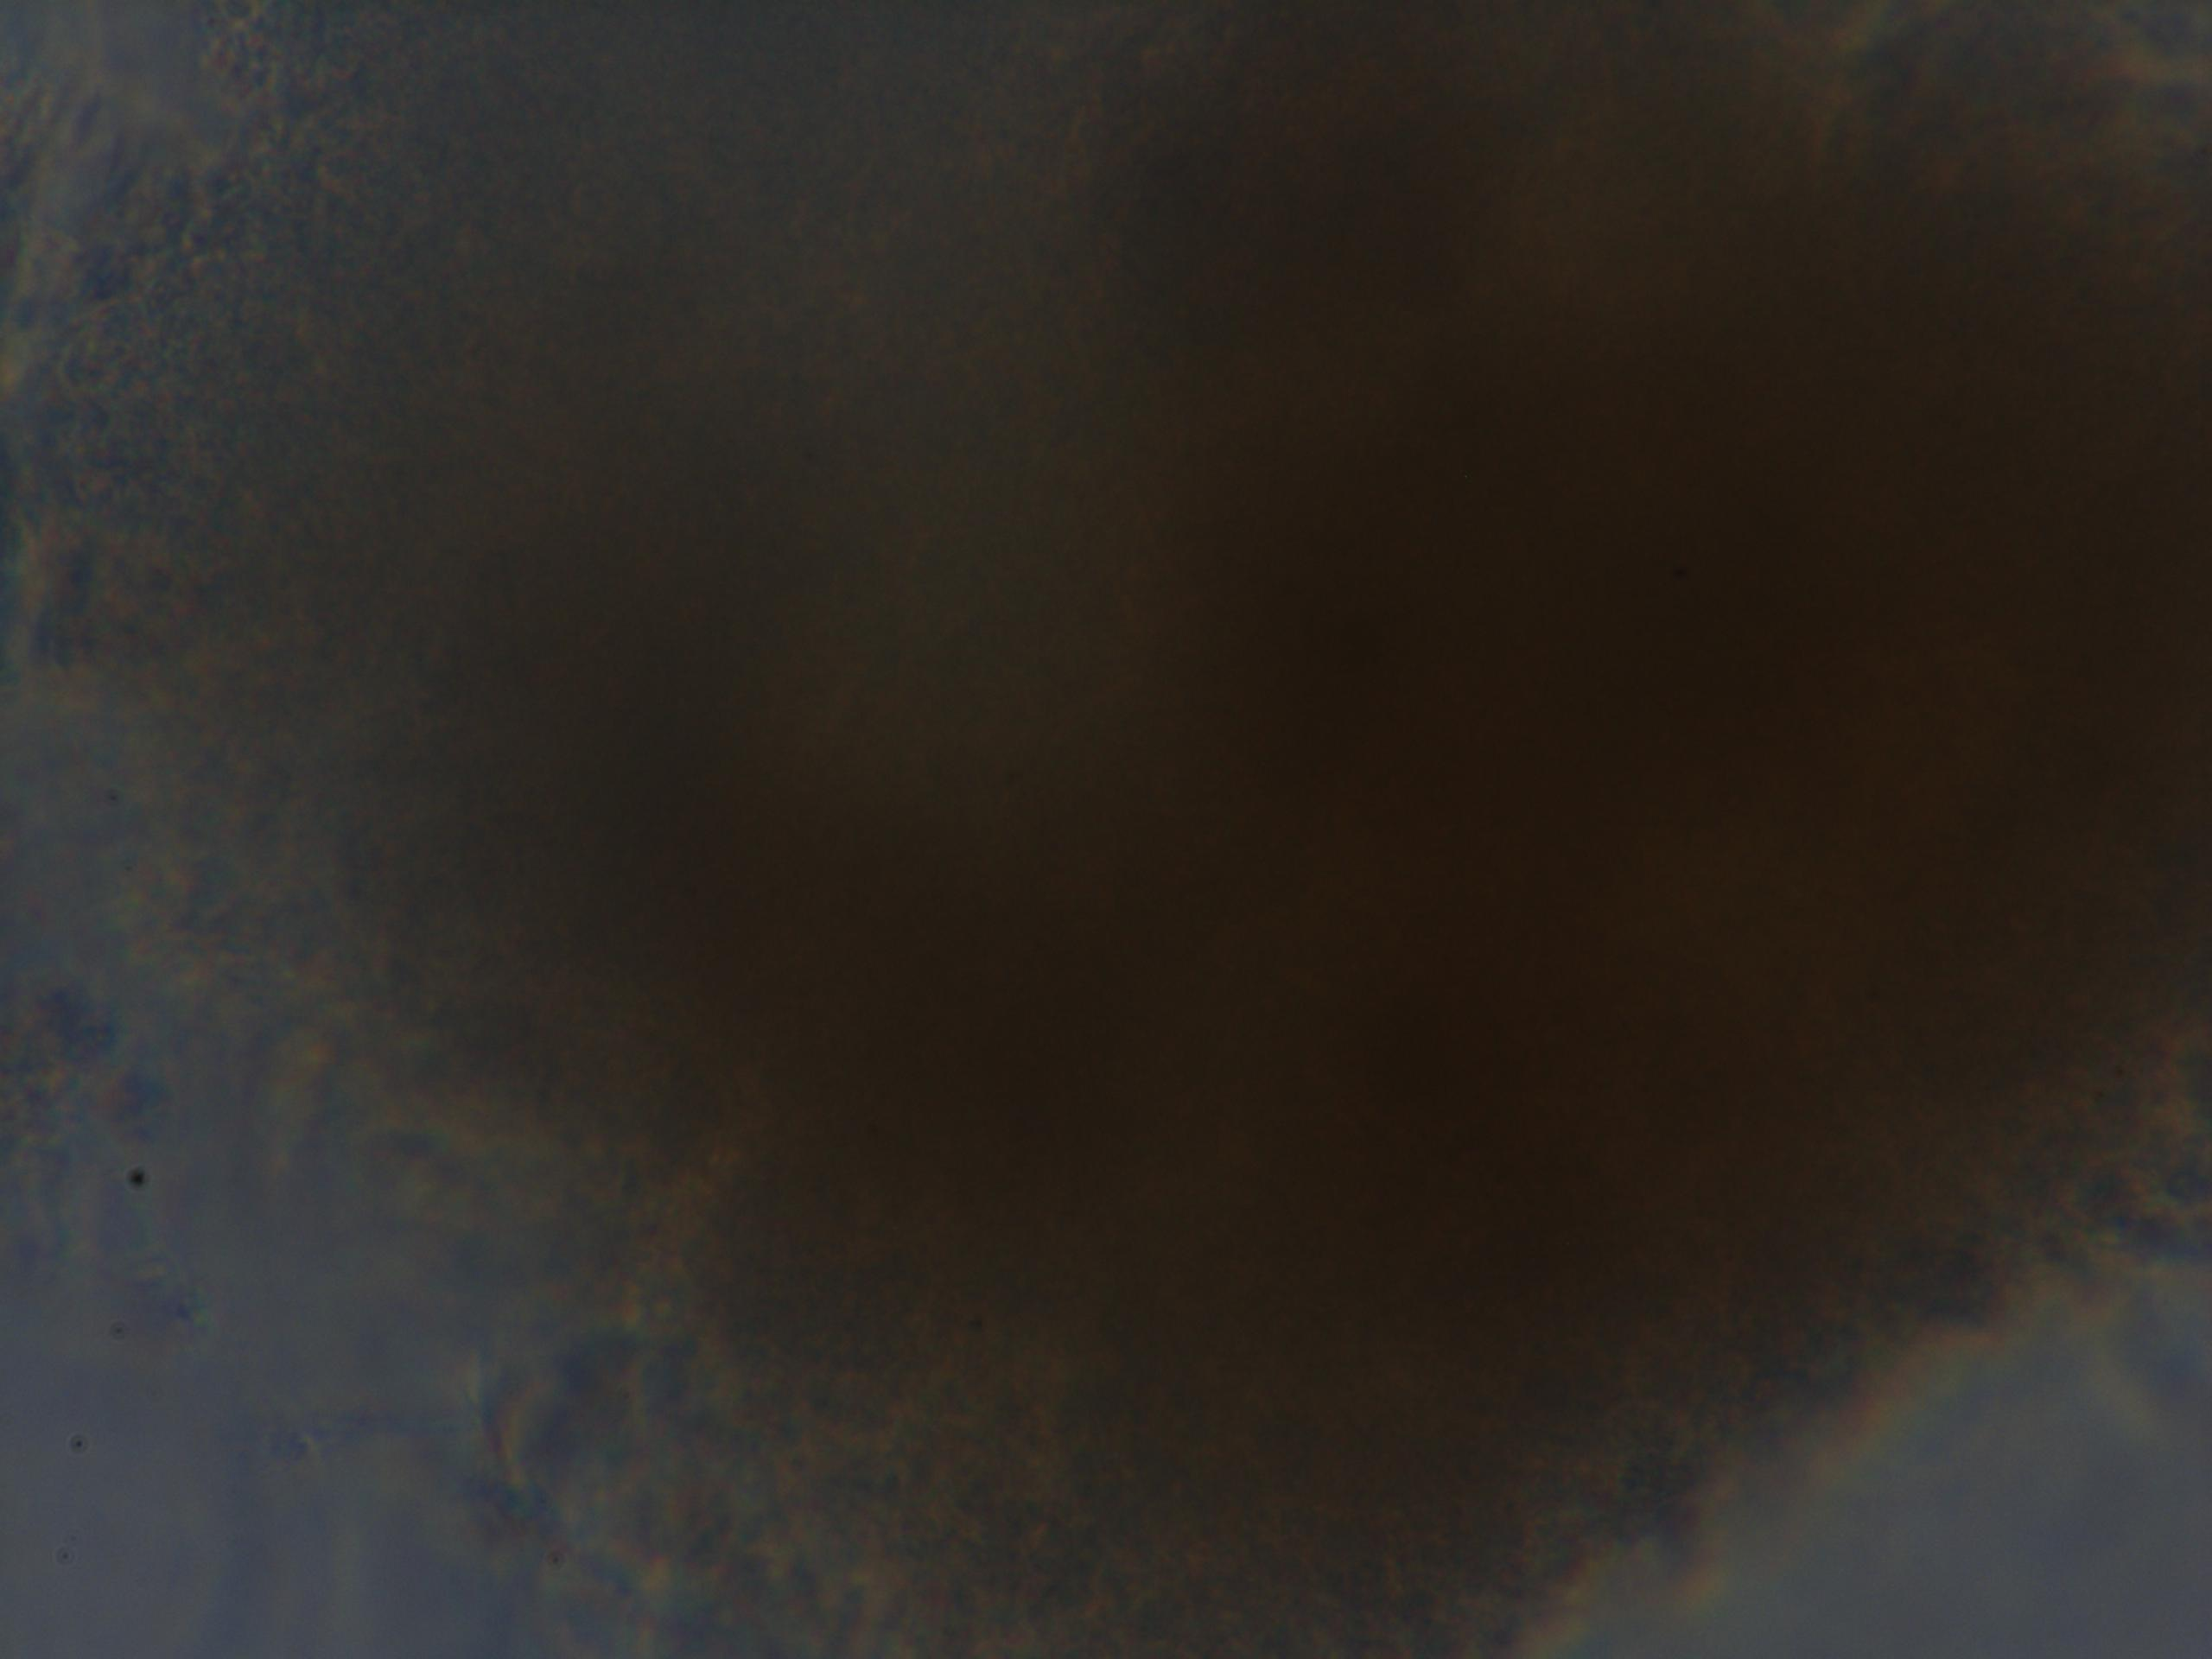spherical_floc: (200, 0, 2212, 1649)
